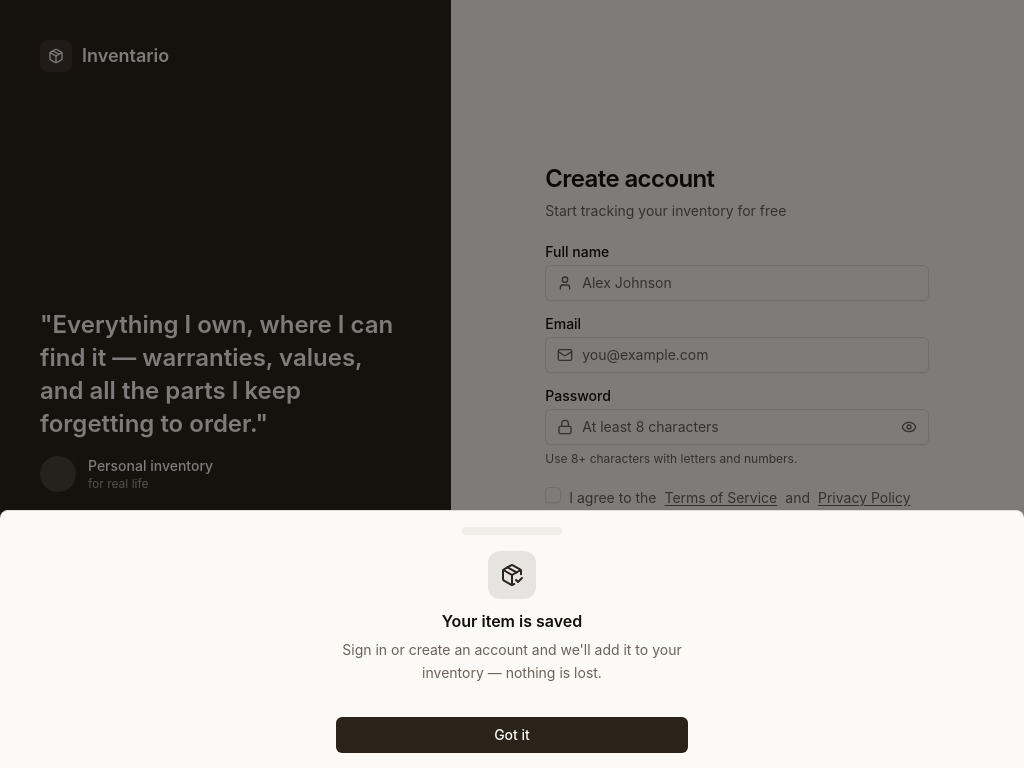
<RegisterPage /> › shows the first-item drawer + pill when a draft is pending, and registration still completes (#1988)
This screenshot has width=1024, height=768.
Expected: the dialog with test id "pending-first-item-drawer" is shown, [0, 510, 1023, 767]
Click the button with test id "pending-first-item-drawer-ok" at (512, 734), box [336, 716, 688, 752]
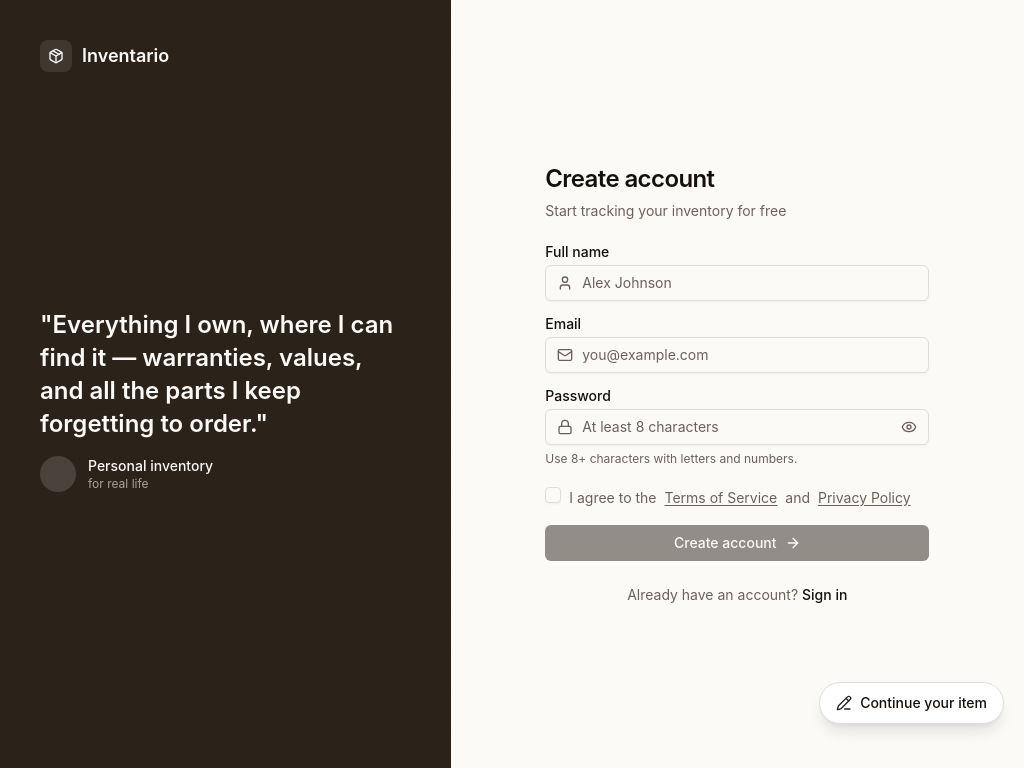
Type "Alex" into the field with test id "name" at (737, 283), box [545, 265, 929, 301]
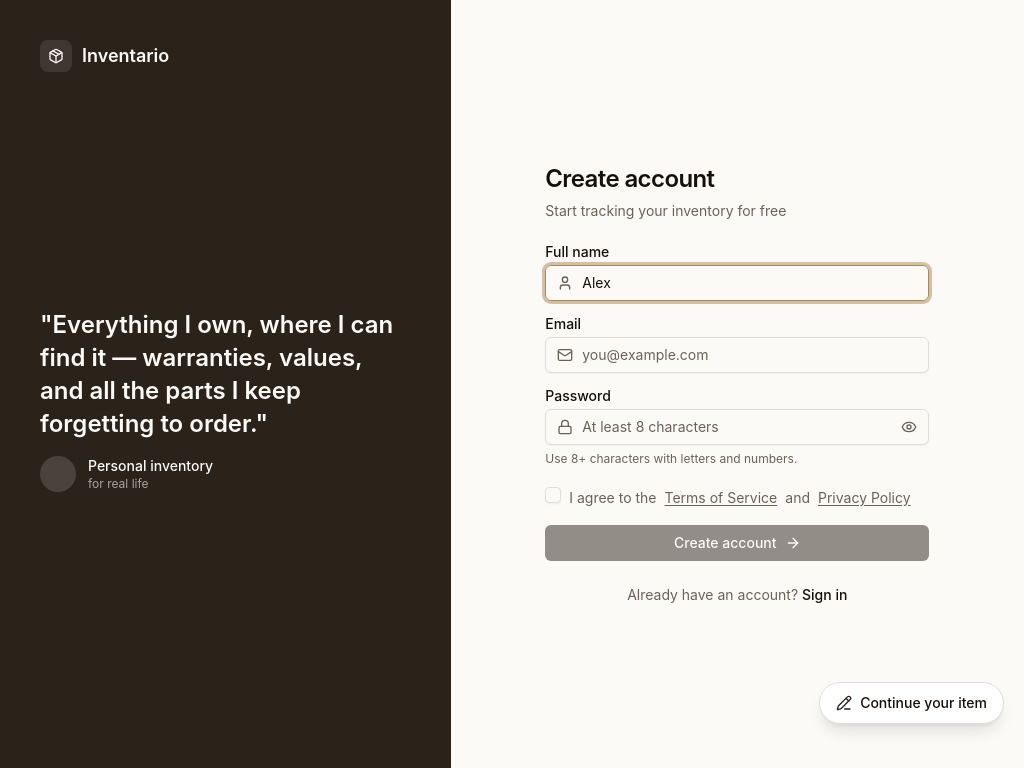
Type "alex@example.com" into the field with test id "email" at (737, 355), box [545, 337, 929, 373]
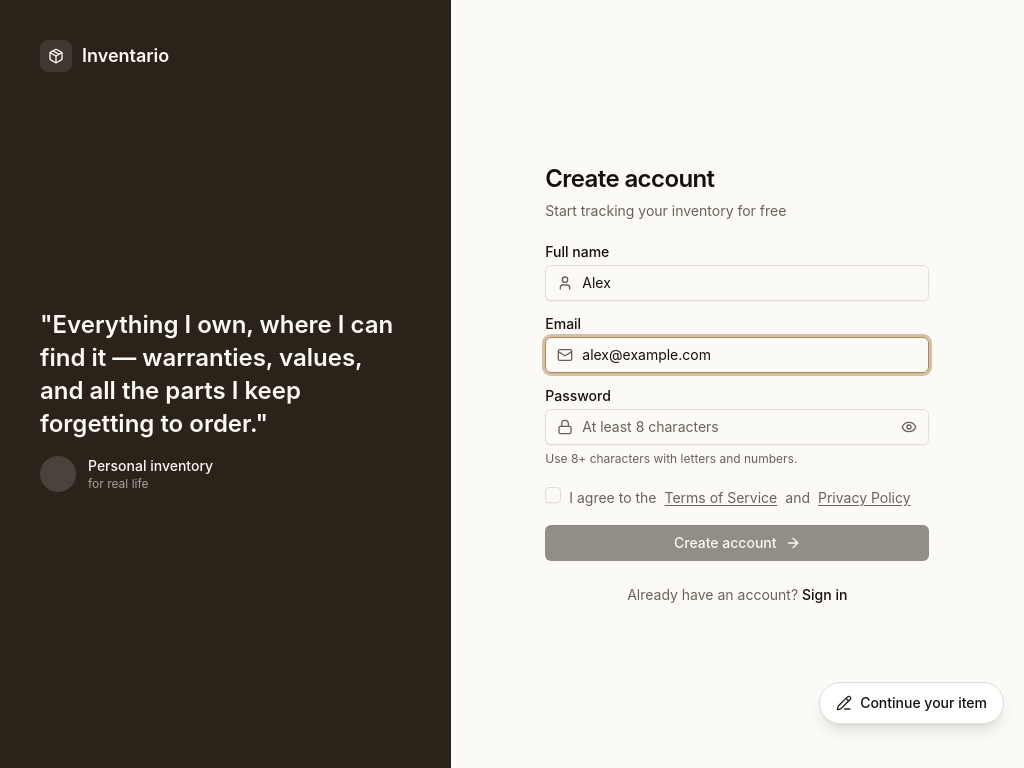
Type "secret-pw" into the password field with test id "password" at (737, 427), box [545, 409, 929, 445]
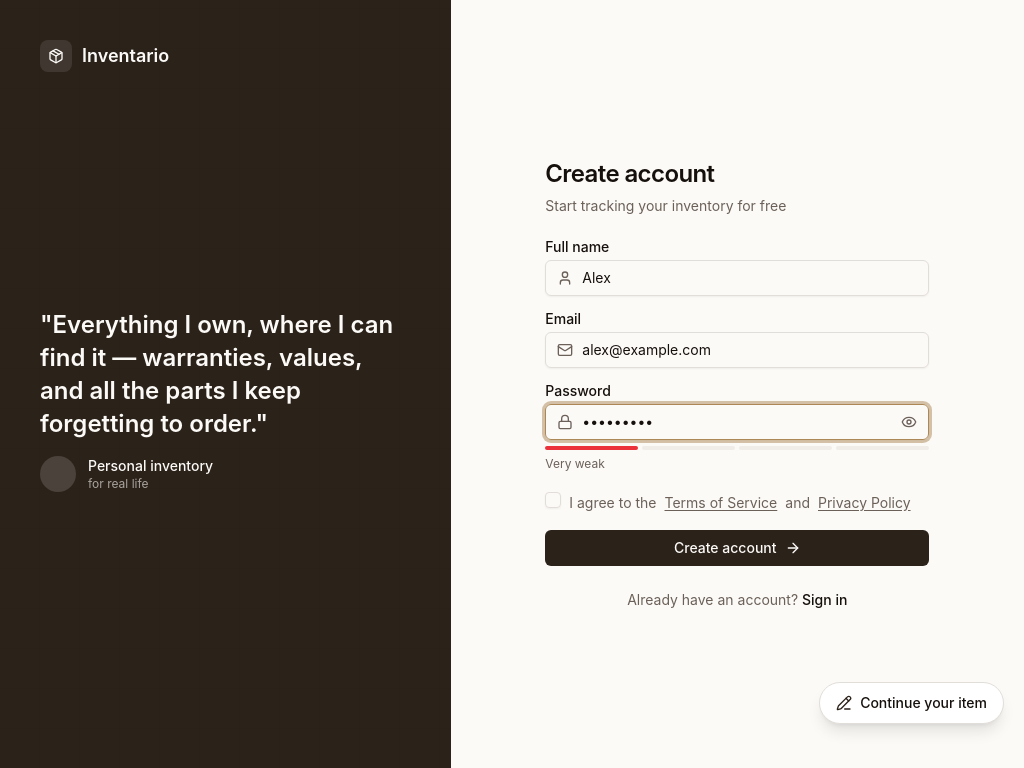
Click the checkbox with test id "terms" at (553, 500), box [545, 492, 561, 508]
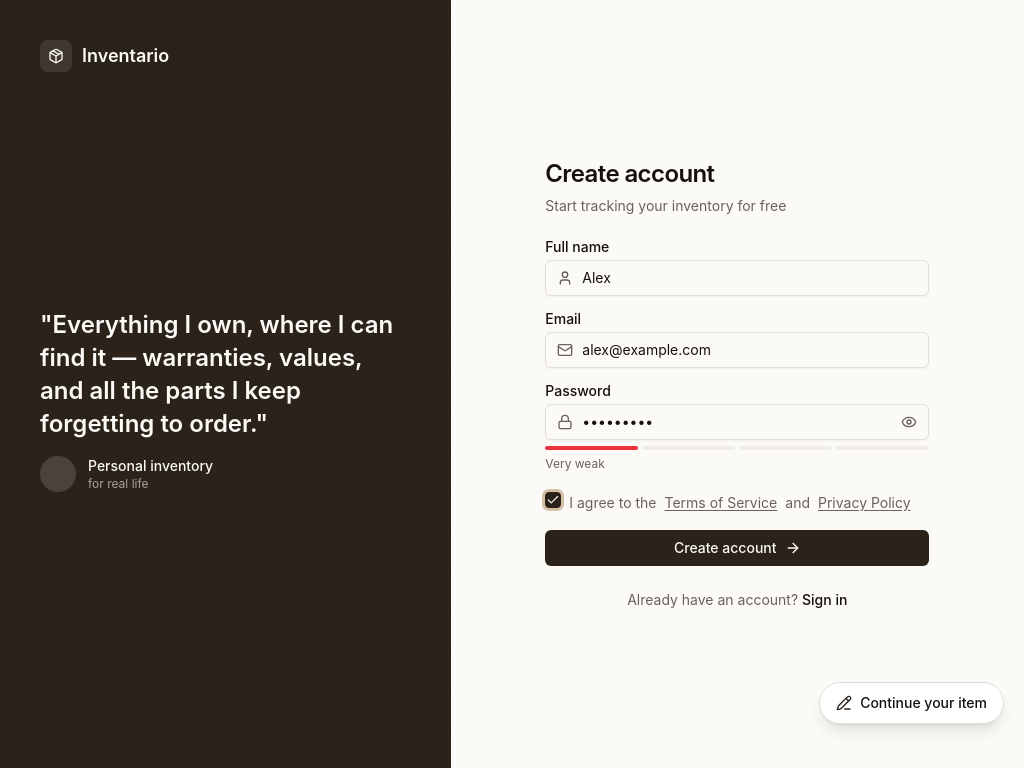
Click the button with test id "register-button" at (737, 548), box [545, 530, 929, 566]
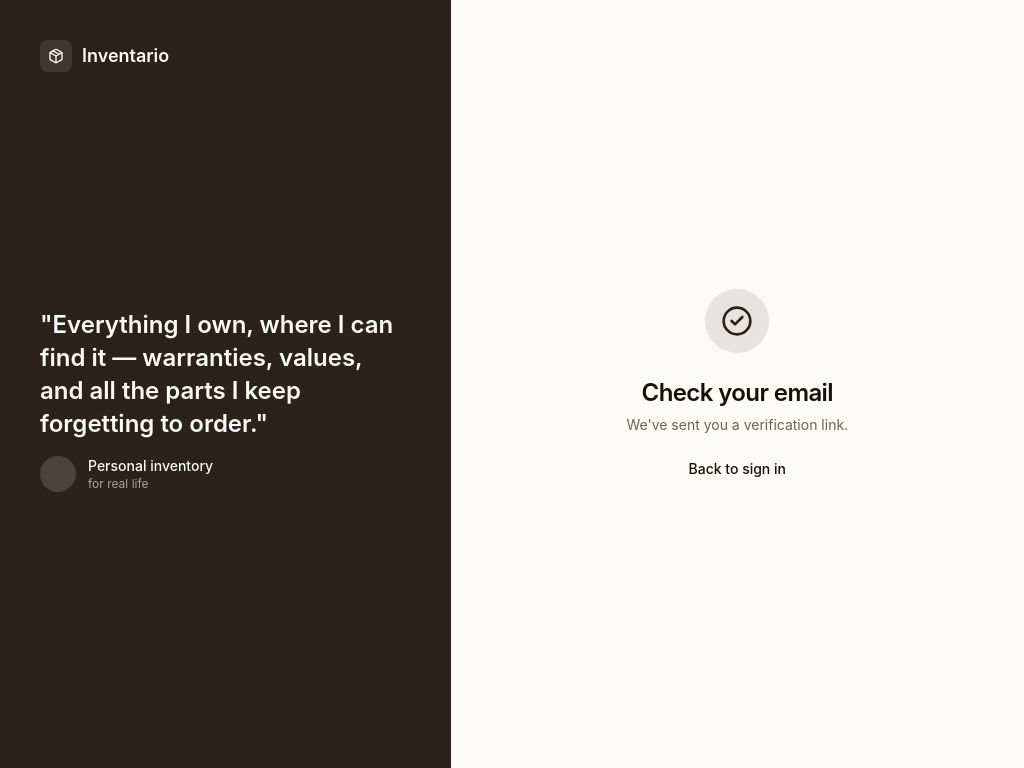
Now the element with test id "register-success" is shown, box [626, 289, 848, 477]
